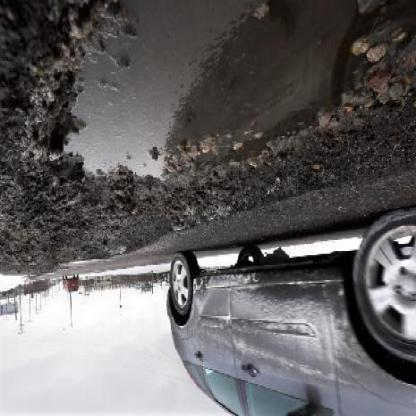pothole: (1, 3, 416, 272)
